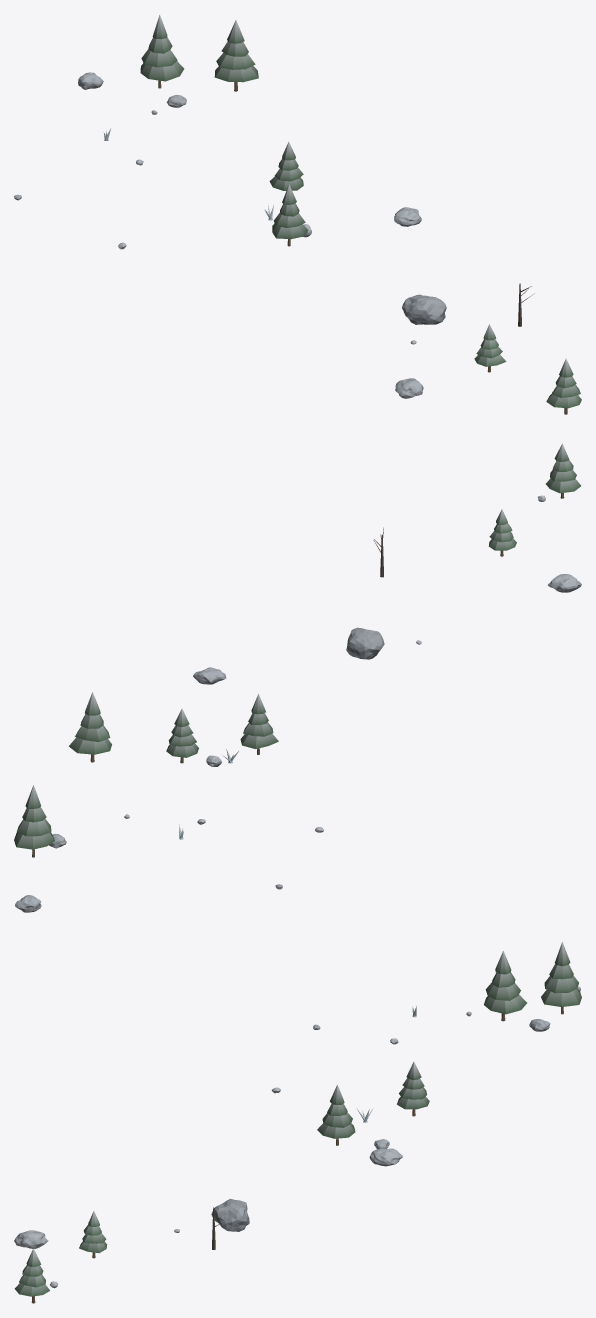
Rendered from frost_land_scatter_c11_12.glb.
3 renders of one model, top to bottom at view 1: azimuth 30°, elevation 25°; view 2: azimuth 150°, elevation 25°; view 3: azimuth 330°, elevation 25°, orthographic.
Parts seen in each view (by area): view 1: frost_land_scatter_c11_12; view 2: frost_land_scatter_c11_12; view 3: frost_land_scatter_c11_12.
Part boxes in pixels (bbox=[...]): frost_land_scatter_c11_12: bbox=[14, 14, 581, 414]; frost_land_scatter_c11_12: bbox=[14, 443, 581, 912]; frost_land_scatter_c11_12: bbox=[14, 942, 581, 1303].
Bounding box in the file's own units: 45.86 × 25.59 × 169.
